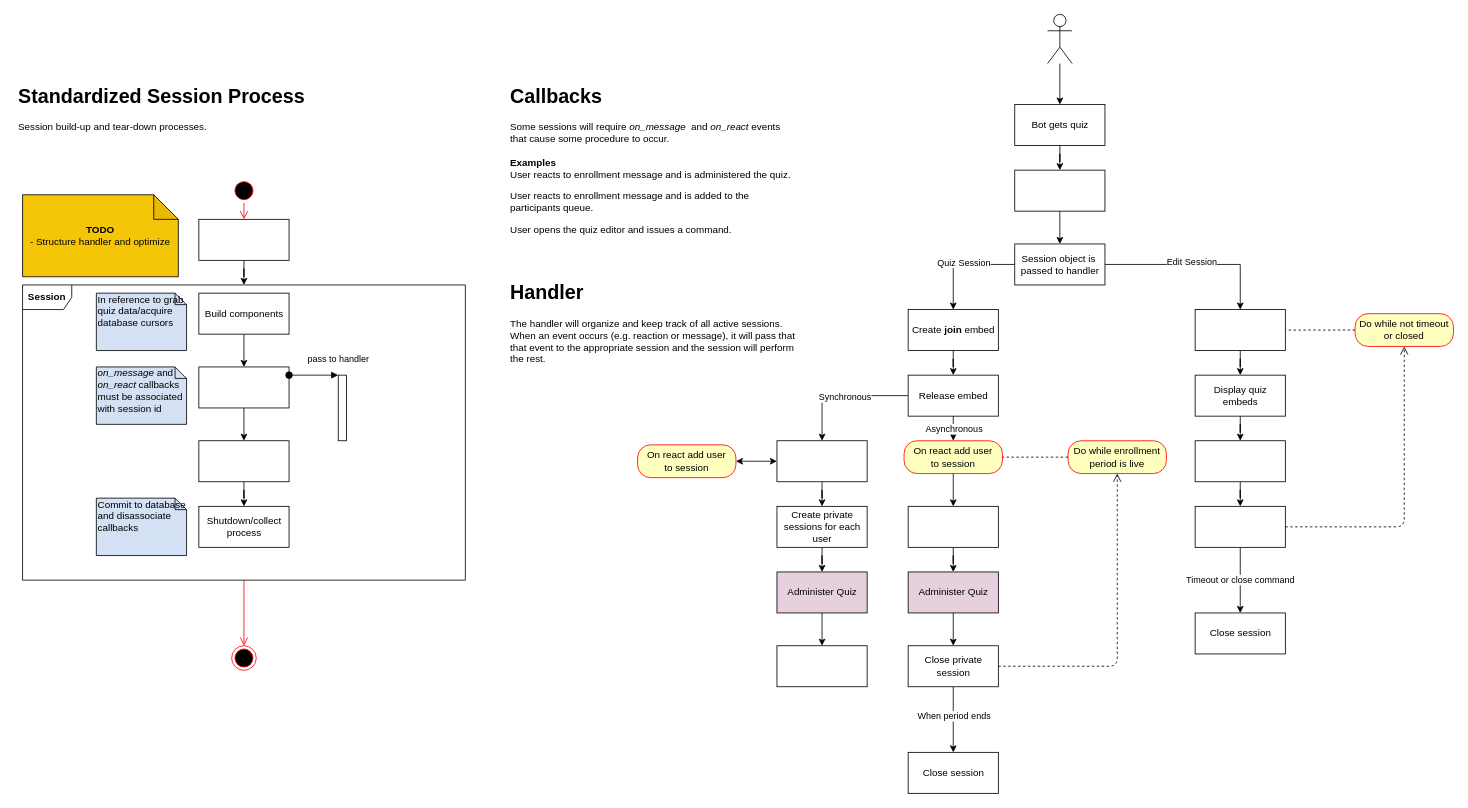
Image size: 1468x808. Some labels were removed from this diagram. The shapes that lost their labels are listed below. From the top down, each one's centre as x and y in pixels, then its label:
the point at 1059,39: Host initiates quiz
the point at 1059,190: Bot creates session (based on command)
the point at 243,239: Check pre-existing
the point at 1239,330: Move to editor channel
the point at 243,387: Initialize Callbacks
the point at 243,461: Begin main loop (cycle)
the point at 821,461: Wait for enrollment period to end
the point at 1239,461: Await user command
the point at 952,526: Create private session for user
the point at 1239,526: Process & implement command
the point at 821,666: Close sessions
